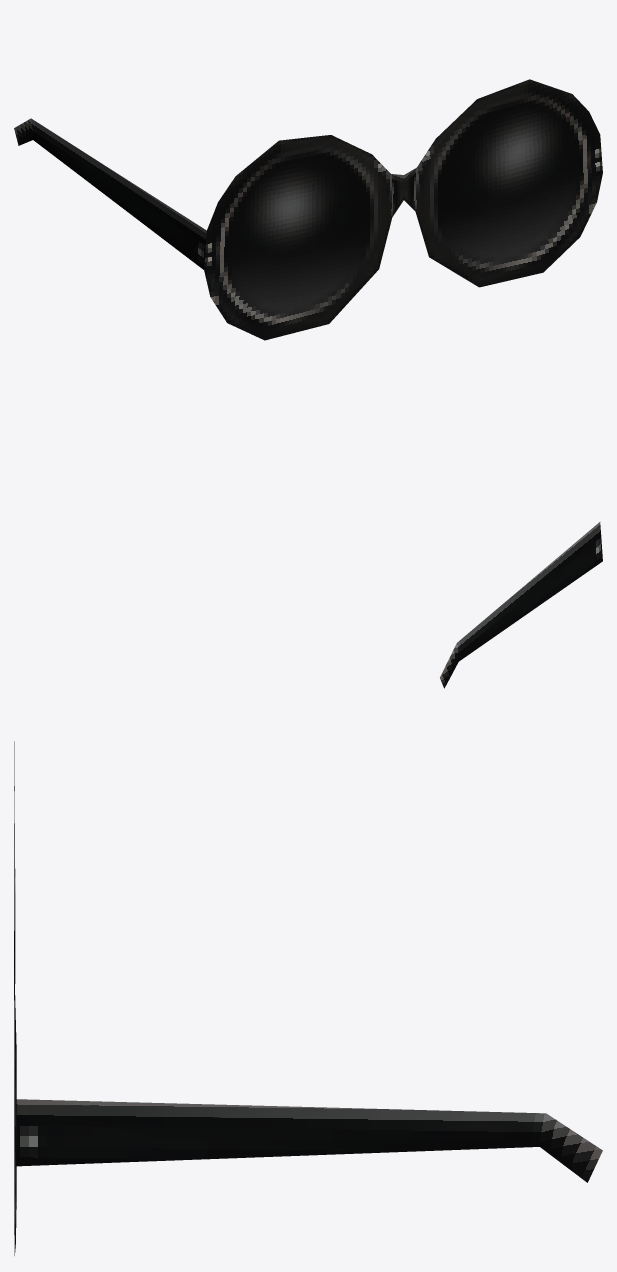
Rendered from tt_m_chr_avt_acc_msk_jackieOShades.glb.
3 views of the same model, one above another, from view 1: azimuth 30°, elevation 25°; view 2: azimuth 150°, elevation 25°; view 3: azimuth 270°, elevation 25° (orthographic). The views are drawn at different scales.
Visible parts, largest first — view 1: jackieOShades; view 2: jackieOShades; view 3: jackieOShades.
Boxes of the visible parts, bbox=[...] form: jackieOShades: bbox=[14, 79, 602, 340]; jackieOShades: bbox=[440, 522, 602, 688]; jackieOShades: bbox=[14, 741, 602, 1255].
Size of the model in its own units: 3.57 by 1.58 by 2.58.
1 material, 1 textured.
